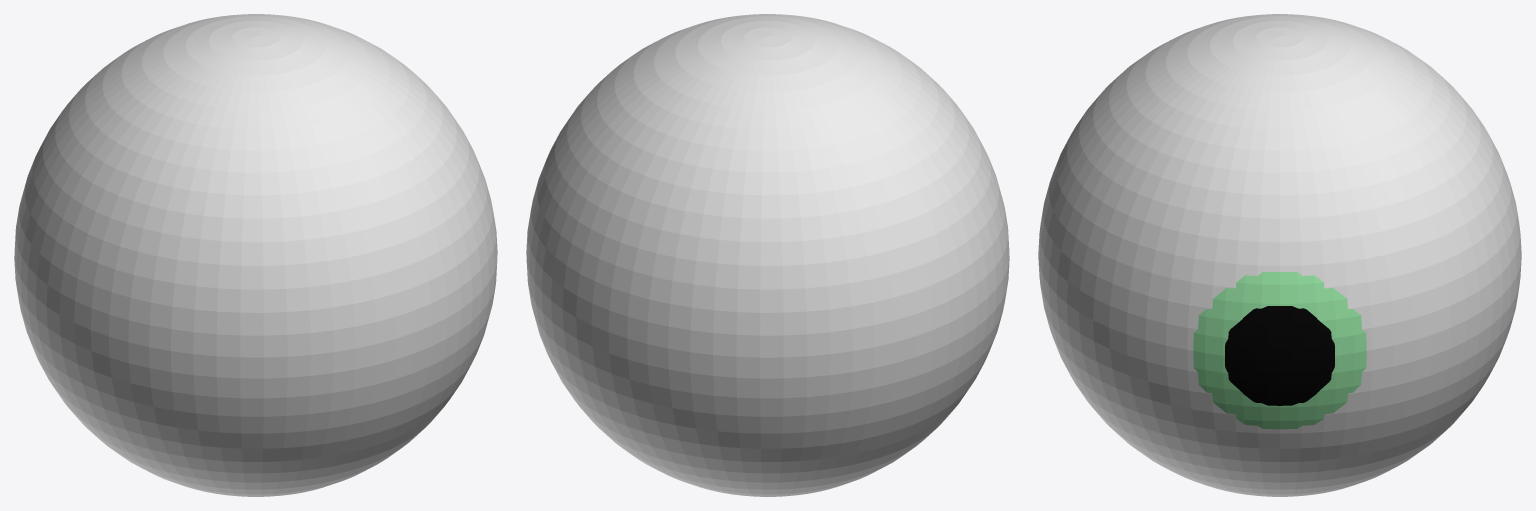
File: eye.fbx
3 renders of one model, left to right at view 1: azimuth 30°, elevation 25°; view 2: azimuth 150°, elevation 25°; view 3: azimuth 270°, elevation 25°, orthographic.
Visible parts, largest first — view 1: Sphere; view 2: Sphere; view 3: Sphere, Sphere.001, Sphere.002.
Boxes of the visible parts, bbox=[...] form: Sphere: bbox=[14, 14, 497, 496]; Sphere: bbox=[526, 14, 1009, 496]; Sphere: bbox=[1038, 14, 1521, 496]; Sphere.001: bbox=[1193, 271, 1366, 429]; Sphere.002: bbox=[1225, 306, 1334, 405].
Bounding box in the file's own units: 2.03 × 2 × 2.
